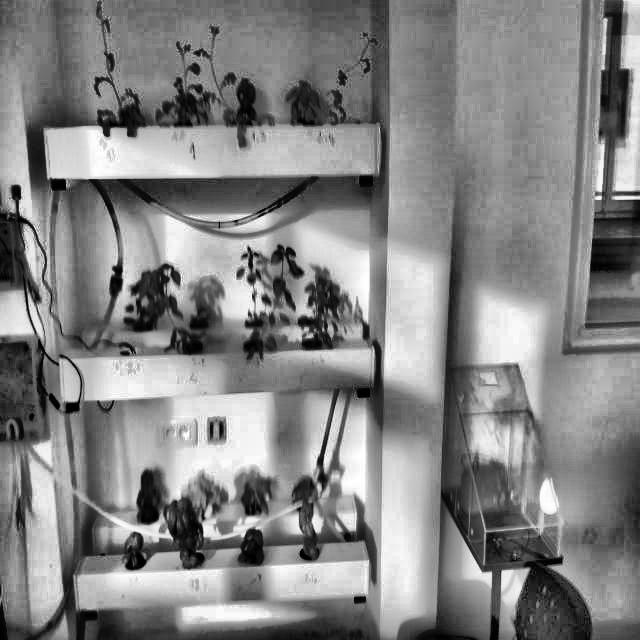plants: (85, 4, 153, 130), (198, 26, 278, 128), (306, 24, 382, 123), (244, 242, 302, 352), (138, 260, 204, 349), (156, 38, 208, 130), (235, 244, 269, 327), (302, 275, 341, 345), (168, 498, 206, 568), (292, 496, 324, 557), (123, 279, 157, 333), (133, 469, 164, 522), (240, 476, 272, 519), (122, 527, 149, 568), (238, 528, 265, 566), (286, 476, 318, 508), (186, 306, 214, 332)
